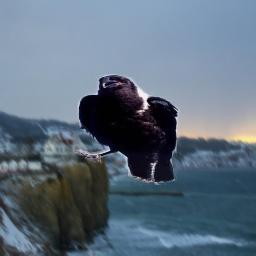Crow: (76, 74, 180, 185)
